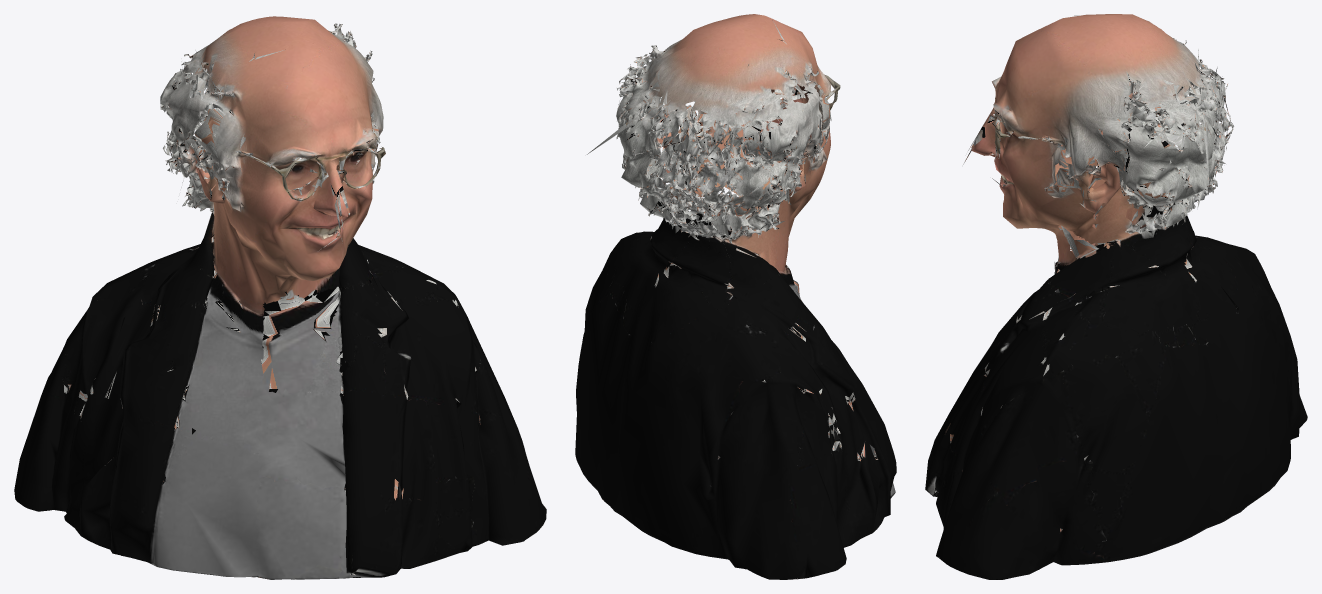
Rendered from Larry_David_optimized_under_2MB.glb.
3 views of the same model, side by side, from view 1: azimuth 30°, elevation 25°; view 2: azimuth 150°, elevation 25°; view 3: azimuth 270°, elevation 25° (orthographic). The views are drawn at different scales.
Size of the model in its own units: 1.59 by 1.9 by 1.41.
Materials: 1 (1 with a texture image).
